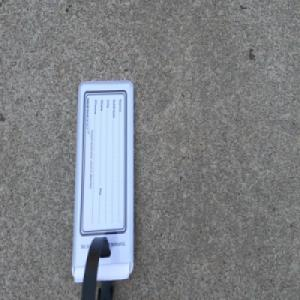LuggageTag: (67, 77, 135, 300)
